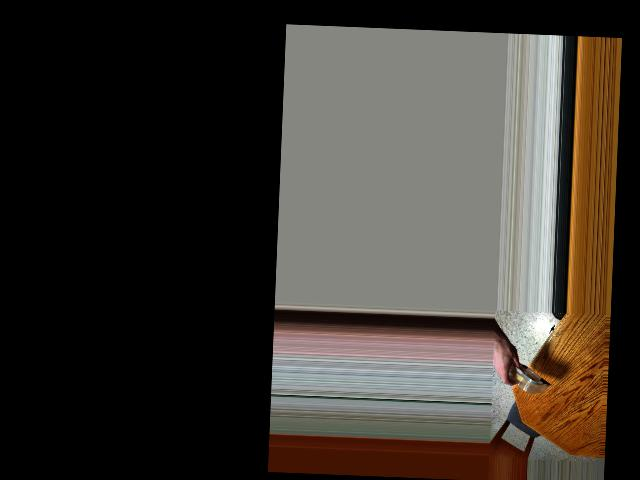cheese: (497, 346, 542, 405)
